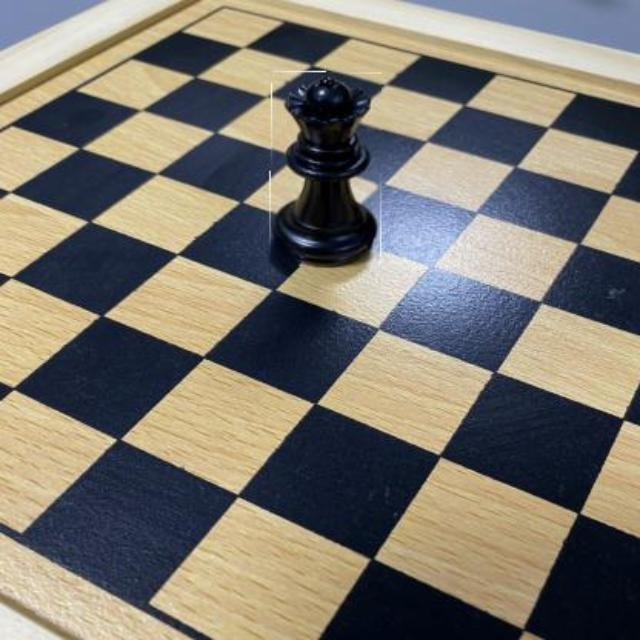black-queen: (270, 72, 382, 268)
